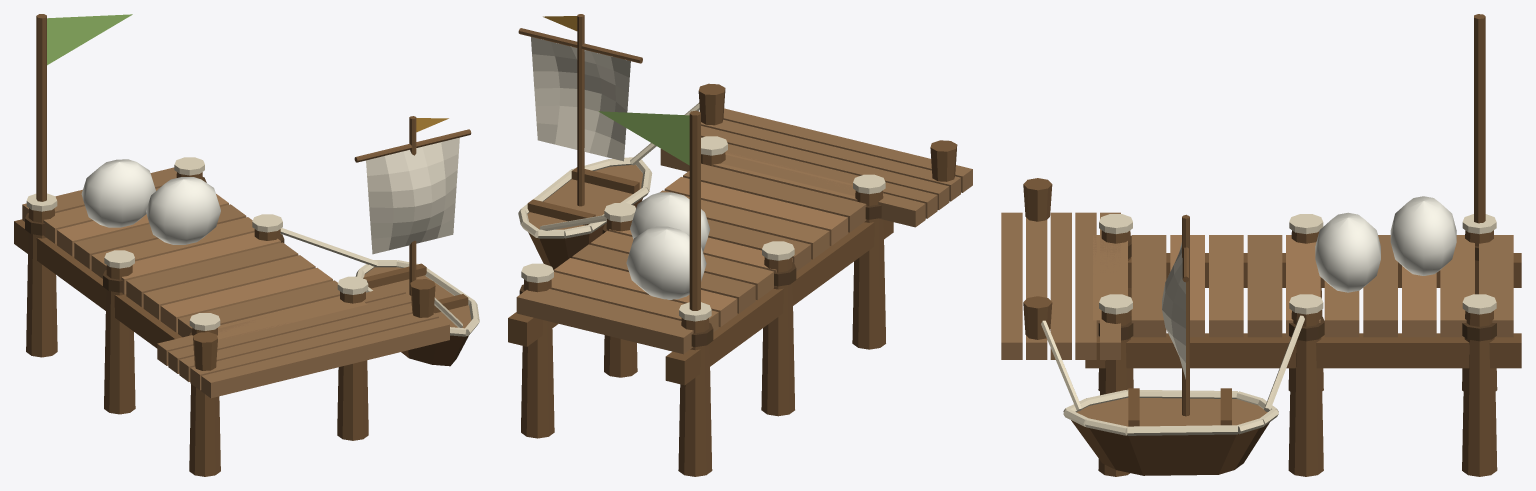
File: harbor-sheep.glb
3 views of the same model, side by side, from view 1: azimuth 30°, elevation 25°; view 2: azimuth 150°, elevation 25°; view 3: azimuth 270°, elevation 25° (orthographic). The views are drawn at different scales.
Parts seen in each view (by area): view 1: harbor-sheep, harbor-sheep.003, harbor-sheep.008, harbor-sheep.001, harbor-sheep.010, harbor-sheep.002, harbor-sheep.004, harbor-sheep.011, harbor-sheep.006, harbor-sheep.005, harbor-sheep.007; view 2: harbor-sheep.003, harbor-sheep, harbor-sheep.008, harbor-sheep.001, harbor-sheep.002, harbor-sheep.010, harbor-sheep.004, harbor-sheep.011, harbor-sheep.005, harbor-sheep.006, harbor-sheep.007; view 3: harbor-sheep.003, harbor-sheep, harbor-sheep.001, harbor-sheep.004, harbor-sheep.010, harbor-sheep.002, harbor-sheep.007, harbor-sheep.006, harbor-sheep.008, harbor-sheep.005.
Boxes of the visible parts, box(x1,y1,x2,y2) form: harbor-sheep: box(22, 167, 471, 398); harbor-sheep.003: box(14, 14, 471, 476); harbor-sheep.008: box(366, 137, 459, 254); harbor-sheep.001: box(43, 188, 367, 339); harbor-sheep.010: box(81, 159, 220, 244); harbor-sheep.002: box(57, 194, 332, 332); harbor-sheep.004: box(26, 157, 479, 336); harbor-sheep.011: box(47, 14, 132, 65); harbor-sheep.006: box(401, 335, 464, 366); harbor-sheep.005: box(25, 177, 284, 335); harbor-sheep.007: box(408, 336, 468, 365); harbor-sheep.003: box(508, 14, 957, 476); harbor-sheep: box(516, 108, 972, 354); harbor-sheep.008: box(531, 37, 630, 161); harbor-sheep.001: box(551, 152, 883, 332); harbor-sheep.002: box(553, 177, 847, 326); harbor-sheep.010: box(626, 192, 710, 299); harbor-sheep.004: box(518, 102, 885, 321); harbor-sheep.011: box(598, 111, 689, 165); harbor-sheep.005: box(519, 204, 881, 347); harbor-sheep.006: box(540, 198, 642, 269); harbor-sheep.007: box(528, 232, 589, 266); harbor-sheep.003: box(1023, 14, 1521, 476); harbor-sheep: box(1001, 212, 1513, 426); harbor-sheep.001: box(1093, 235, 1474, 337); harbor-sheep.004: box(1041, 214, 1496, 435); harbor-sheep.010: box(1315, 196, 1456, 292); harbor-sheep.002: box(1170, 235, 1436, 337); harbor-sheep.007: box(1071, 420, 1269, 475); harbor-sheep.006: box(1089, 428, 1258, 475); harbor-sheep.008: box(1162, 242, 1185, 379); harbor-sheep.005: box(1098, 236, 1496, 341).
Bounding box in the file's own units: 0.7868 × 0.735 × 0.93.
